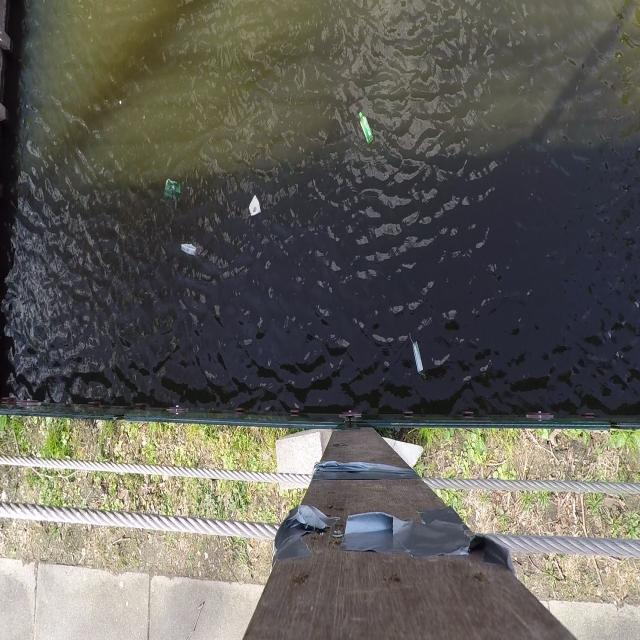Bouteille plastique: (357, 108, 377, 150)
Non plastique: (404, 329, 432, 390)
